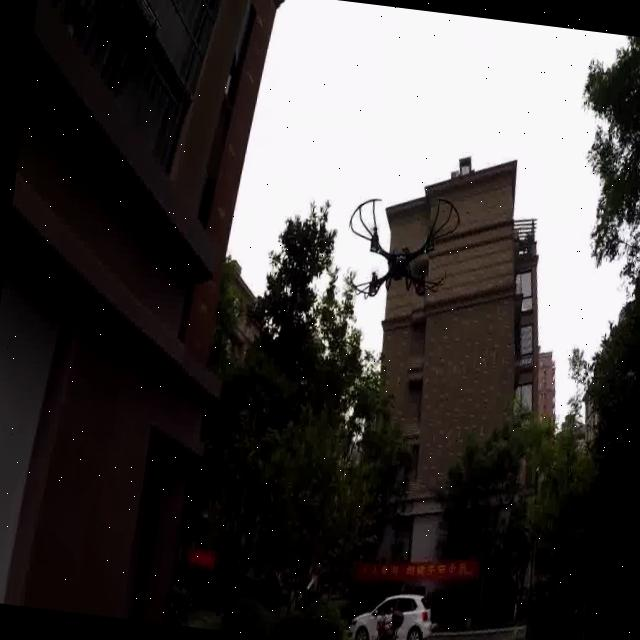drone: (331, 186, 465, 317)
